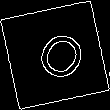O_SW: (23, 22, 87, 88)
